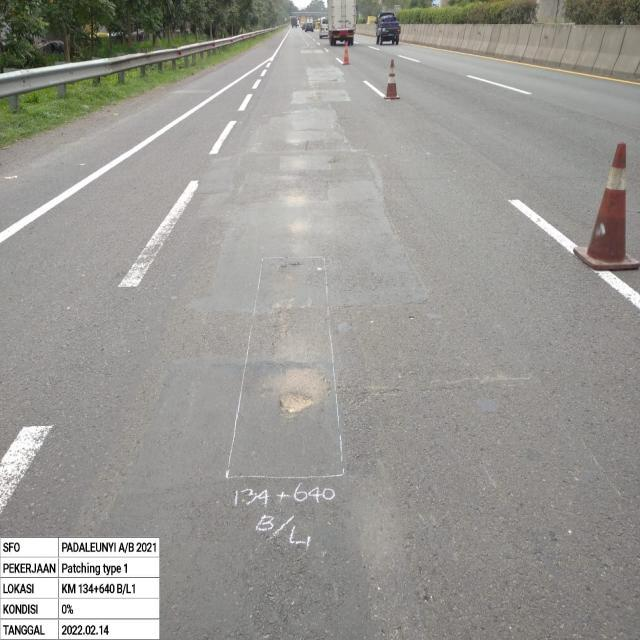Buraco: (275, 390, 317, 425)
